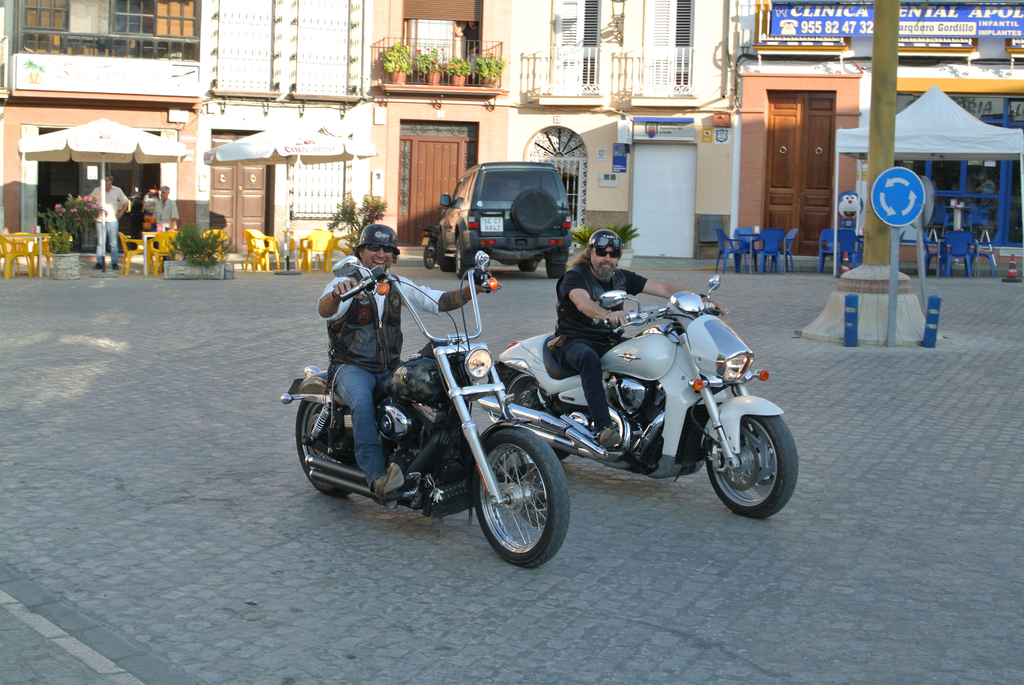Wheel: (465, 429, 564, 564), (703, 413, 798, 521), (499, 369, 578, 463), (293, 395, 356, 498), (510, 187, 559, 234), (455, 235, 476, 279), (545, 253, 570, 279), (438, 232, 452, 272), (518, 258, 542, 272), (424, 241, 435, 269)
